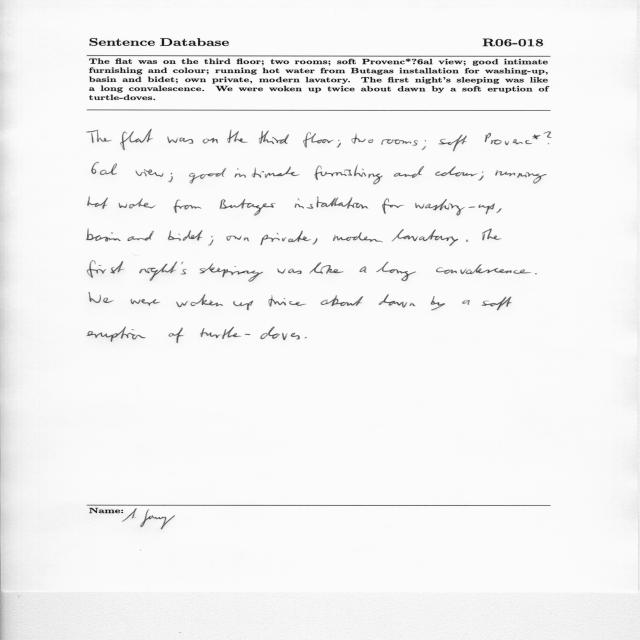word: (314, 165, 383, 185), (415, 199, 495, 216), (200, 327, 300, 340), (200, 263, 263, 282), (392, 229, 458, 246), (295, 196, 369, 209), (139, 261, 187, 281), (220, 199, 276, 216), (436, 264, 531, 274), (485, 131, 552, 145), (87, 327, 146, 342), (235, 166, 300, 178), (376, 262, 416, 281), (495, 170, 547, 184), (260, 231, 311, 245), (120, 129, 153, 150), (87, 261, 124, 278), (176, 294, 223, 307), (189, 168, 226, 183), (333, 232, 383, 242), (303, 132, 334, 148), (438, 135, 467, 152), (379, 295, 416, 308), (435, 166, 478, 177), (321, 295, 363, 306), (86, 229, 121, 242), (259, 130, 289, 144), (309, 262, 344, 274), (269, 296, 307, 307), (119, 198, 156, 209), (482, 297, 512, 310), (168, 230, 203, 241), (174, 200, 202, 213), (394, 166, 424, 178), (382, 198, 404, 214), (86, 130, 112, 143), (92, 162, 117, 175), (227, 129, 248, 143), (89, 292, 114, 303), (87, 196, 108, 209), (127, 231, 154, 241), (381, 139, 418, 146), (168, 328, 184, 343), (136, 169, 164, 177), (352, 134, 374, 144), (430, 296, 445, 310), (482, 229, 501, 240), (167, 136, 193, 144), (131, 299, 160, 306), (233, 301, 253, 311), (227, 236, 249, 242), (277, 269, 302, 274), (203, 138, 218, 143), (478, 172, 484, 181), (209, 236, 214, 246), (360, 266, 367, 273), (168, 173, 173, 182), (422, 140, 426, 150), (462, 300, 470, 305), (337, 140, 341, 148), (496, 208, 502, 213), (313, 238, 318, 244), (466, 239, 468, 242), (535, 273, 537, 274), (305, 337, 307, 338)
